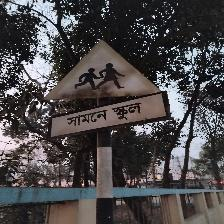School-in-front: (42, 39, 170, 139)
